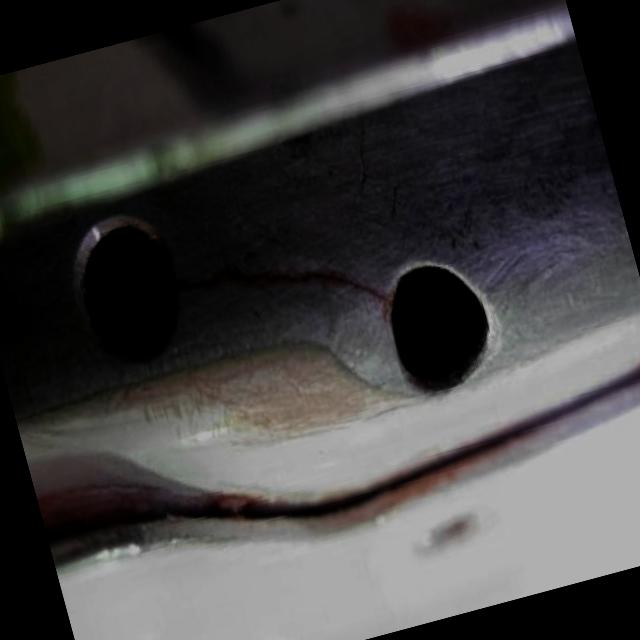crack: (336, 266, 390, 318), (276, 260, 336, 292), (220, 256, 271, 293), (178, 274, 219, 298)
